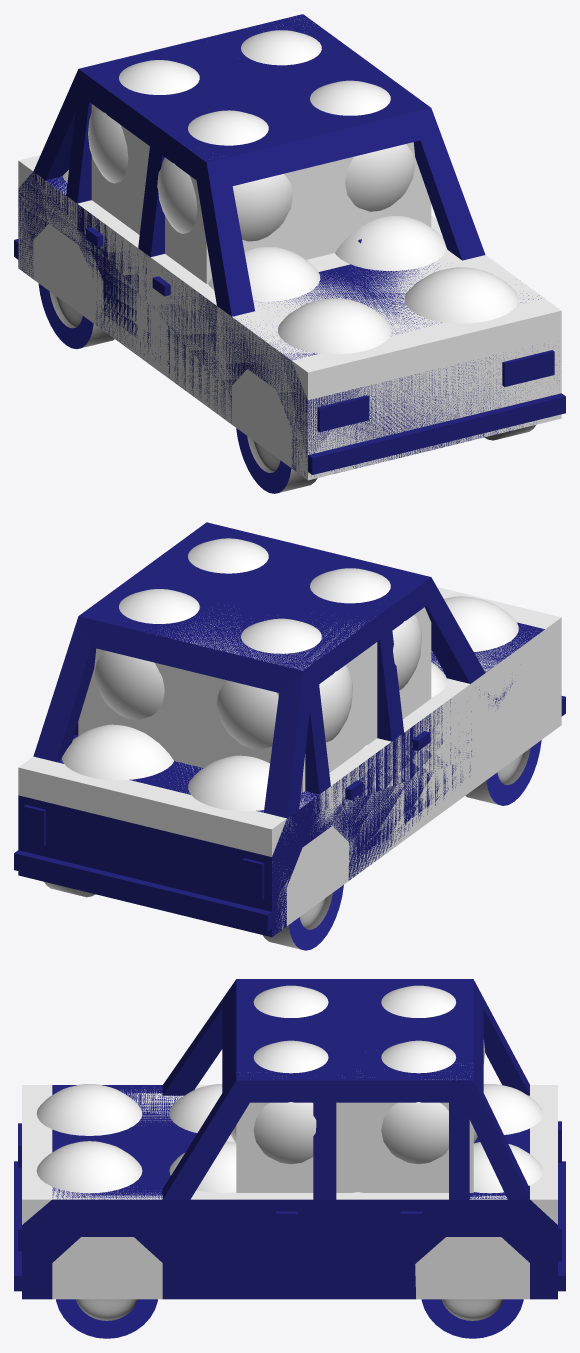
The model's file is car.glb.
3 views of the same model, one above another, from view 1: azimuth 30°, elevation 25°; view 2: azimuth 150°, elevation 25°; view 3: azimuth 270°, elevation 25° (orthographic). The views are drawn at different scales.
Parts seen in each view (by area): view 1: body, Cube006, Cube002, Sphere002, Sphere001, Sphere, Sphere003, Sphere010, Sphere007, Sphere011, door_4, door_2 (+3 smaller); view 2: body, Cube006, Cube002, Sphere007, Sphere004, Sphere005, door_4, Sphere002, Sphere006, door_2, Sphere003, Sphere001 (+2 smaller); view 3: body, Cube006, Cube002, door_1, door_3, Sphere004, Sphere001, Sphere, Sphere003, Cylinder001, wheel_fl, Sphere006 (+5 smaller).
Boxes of the visible parts, x1,y1,x2,y2 form: body: (14, 14, 565, 477); Cube006: (18, 155, 561, 480); Cube002: (91, 25, 431, 283); Sphere002: (157, 110, 292, 241); Sphere001: (310, 80, 414, 211); Sphere: (404, 267, 518, 368); Sphere003: (278, 298, 391, 399); Sphere010: (335, 216, 446, 270); Sphere007: (88, 60, 199, 183); Sphere011: (208, 247, 320, 301); door_4: (77, 204, 138, 337); door_2: (152, 269, 216, 396); body: (14, 522, 565, 937); Cube006: (18, 587, 561, 930); Cube002: (78, 607, 431, 792); Sphere007: (216, 618, 352, 749); Sphere004: (94, 589, 199, 719); Sphere005: (61, 724, 173, 780); door_4: (331, 742, 391, 857); Sphere002: (310, 568, 421, 690); Sphere006: (188, 755, 269, 811); door_2: (404, 699, 470, 823); Sphere003: (444, 596, 518, 651); Sphere001: (188, 538, 268, 573); body: (14, 979, 565, 1299); Cube006: (22, 1085, 557, 1299); Cube002: (236, 1065, 473, 1192); door_1: (190, 1199, 313, 1283); door_3: (336, 1199, 448, 1283); Sphere004: (381, 1040, 477, 1164); Sphere001: (230, 1040, 328, 1164); Sphere: (36, 1141, 142, 1193); Sphere003: (36, 1084, 142, 1135); Cylinder001: (421, 1299, 523, 1338); wheel_fl: (56, 1299, 157, 1338); Sphere006: (483, 1084, 542, 1134).
Size of the model in its own units: 1.28 by 1.31 by 2.49.
Materials: 3 (1 with a texture image).
